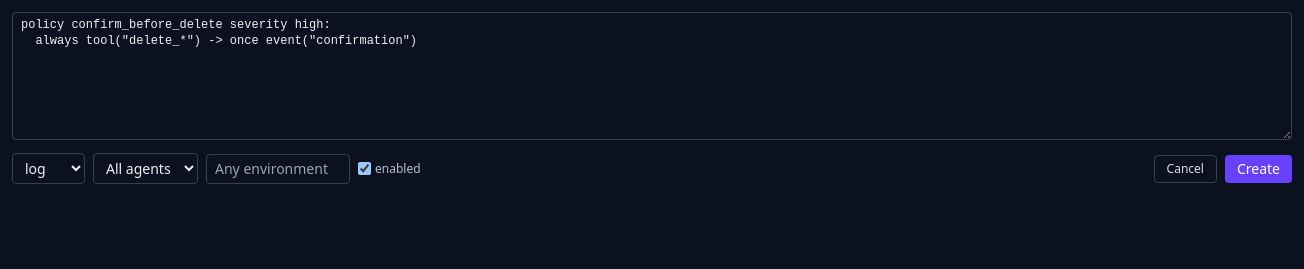
Test: PolicyEditor › shows the parse errors from a 422 on save
Click the button "Create": x=1258, y=168 1225,154 -> 1292,182
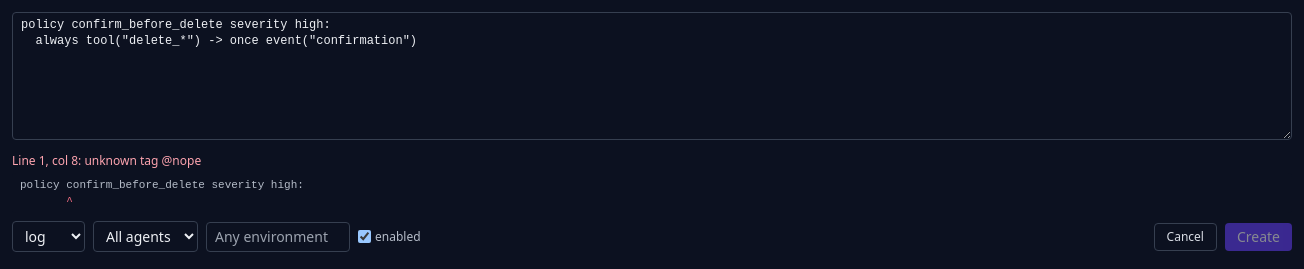
expect the text "Line 1, col 8: unknown tag @nope" is shown: met, box 12,152 -> 201,169
